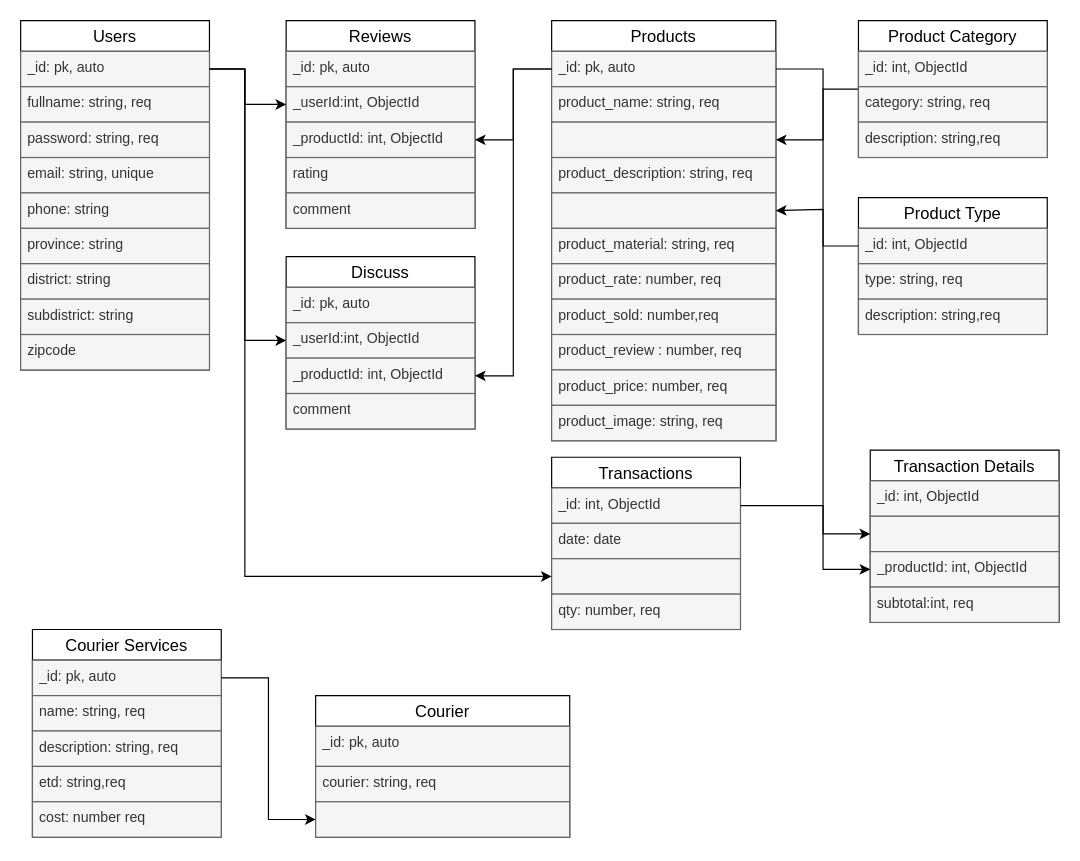
Image size: 1080x861. Some labels were removed from this diagram. The centre of each missing label's shape, as x and y in pixels:
_category_id: int, ObjectId: the point at 663,139
_idCourierService: int, ObjectId: the point at 442,819
_transactionId: int, ObjectId: the point at 964,533
_typeId: int, ObjectId: the point at 663,210
_userId: int, ObjectId: the point at 645,576
